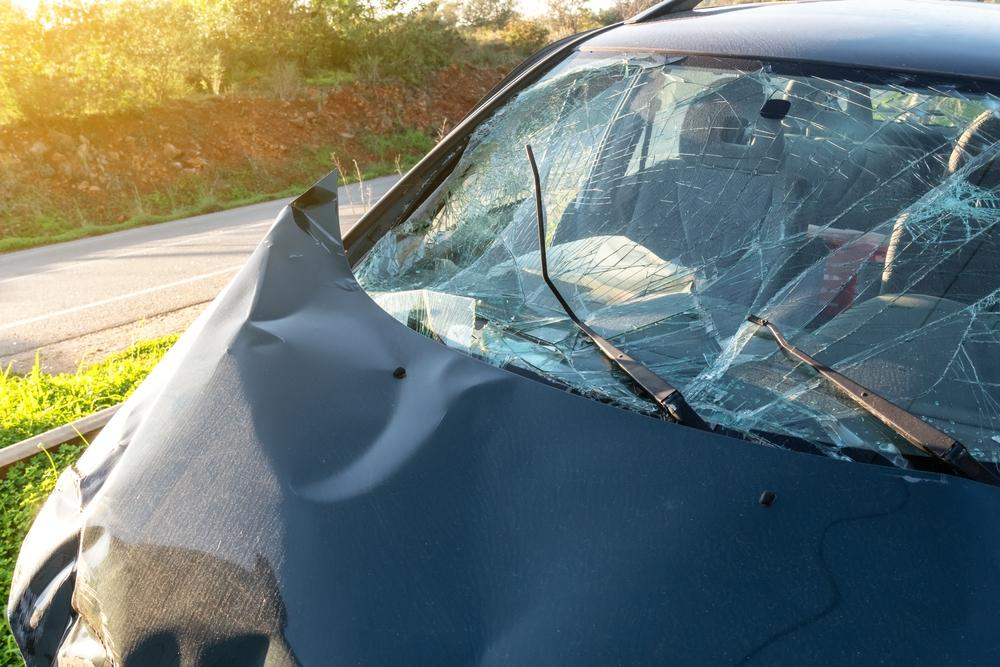dent: (227, 186, 519, 513), (7, 526, 278, 667)
glass shatter: (354, 50, 1000, 485)
